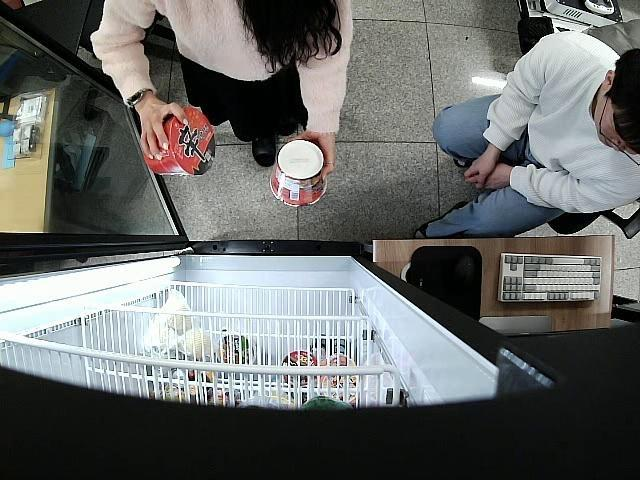01_ShinRamen_L: (145, 107, 216, 176), (269, 140, 328, 208)
